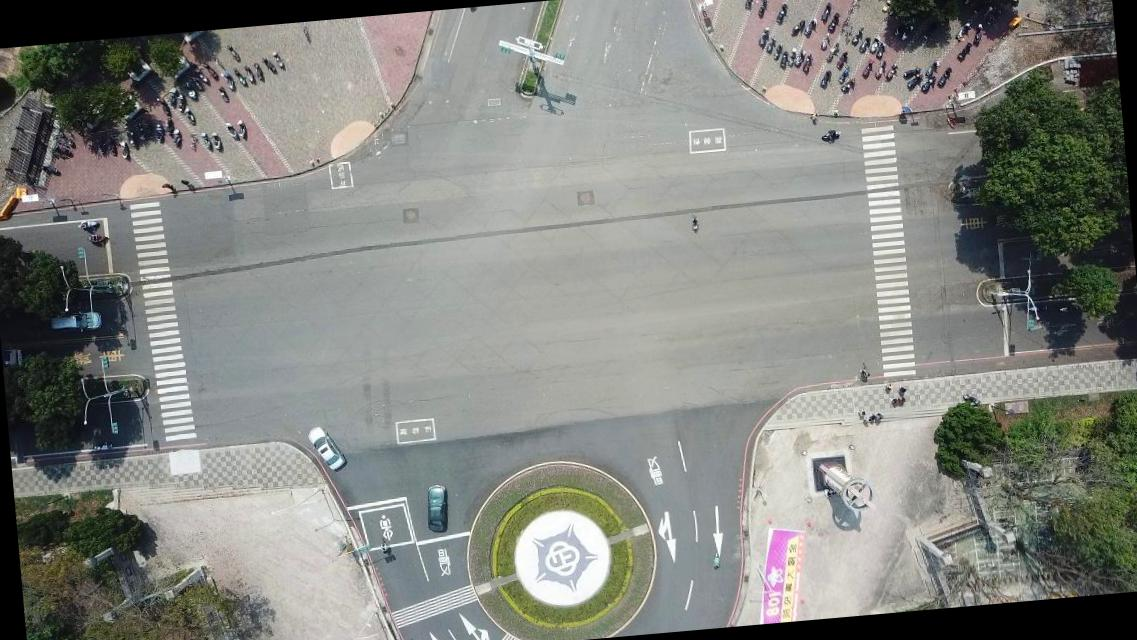vehicle: (306, 423, 350, 476), (423, 483, 451, 535), (48, 308, 102, 333)
